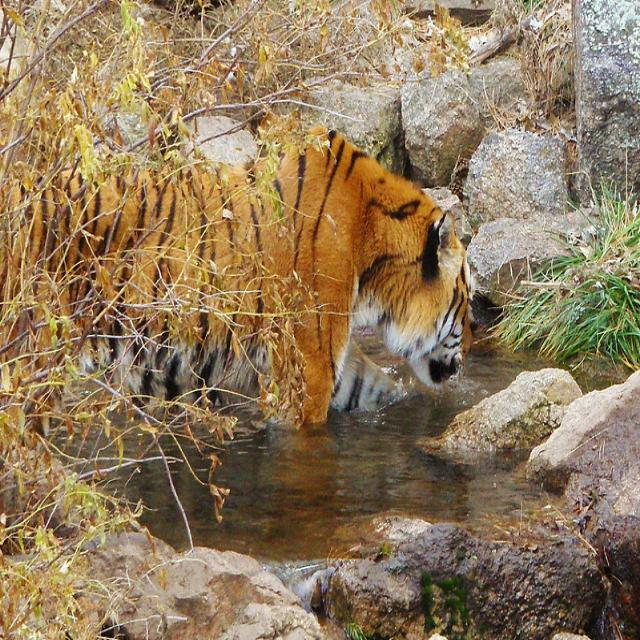Tiger: (0, 122, 470, 420)
